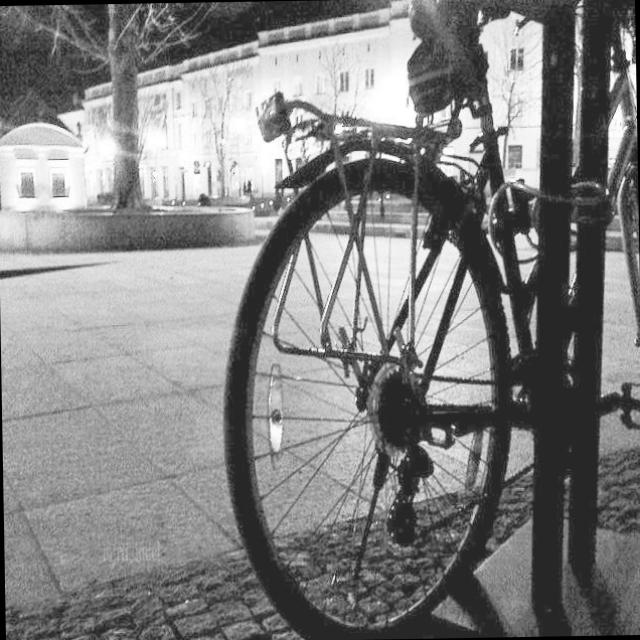Bicycle: (249, 57, 640, 596)
